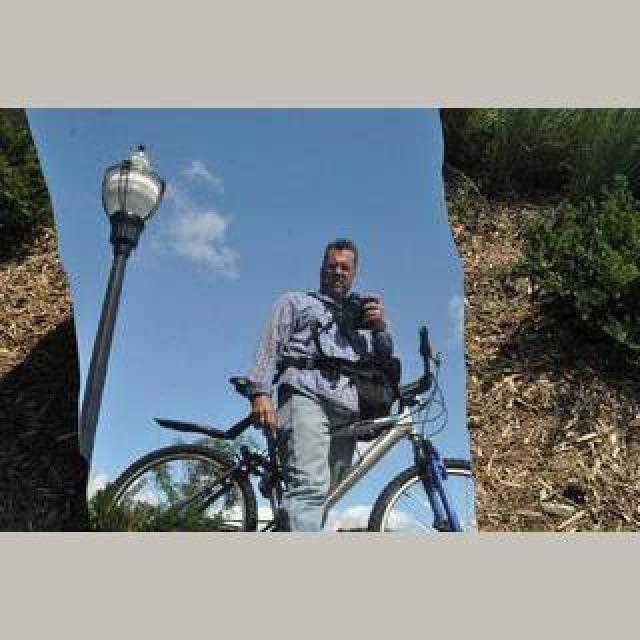MC-Bike: (246, 238, 400, 528)
Person: (113, 375, 493, 527)
